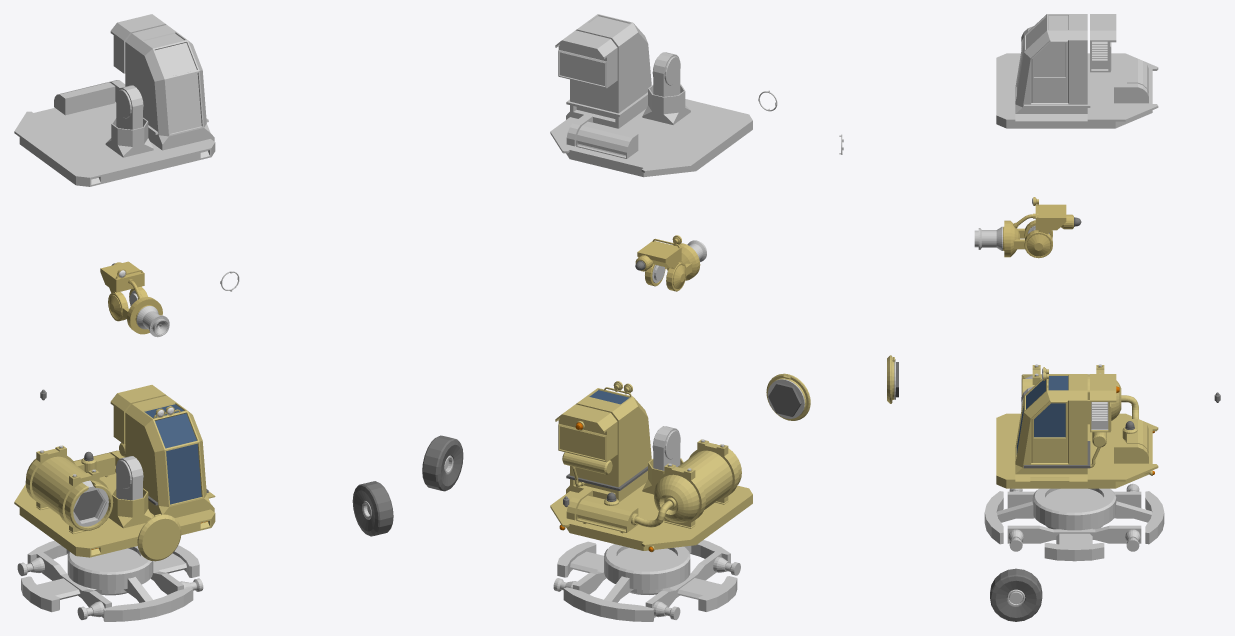
Rendered from Garret M-110.dae.
3 renders of one model, left to right at view 1: azimuth 30°, elevation 25°; view 2: azimuth 150°, elevation 25°; view 3: azimuth 270°, elevation 25°, orthographic. The views are drawn at different scales.
Parts seen in each view (by area): view 1: Garret_M-110Turret, Garret_M-110TurretCol2, Garret_M-110Hull, Garret_M-110TurretCol1, Garret_M-110Miner, Garret_M-110Wheel, Garret_M-110Hatch; view 2: Garret_M-110Turret, Garret_M-110TurretCol2, Garret_M-110Hull, Garret_M-110TurretCol1, Garret_M-110Miner, Garret_M-110Wheel, Garret_M-110Hatch; view 3: Garret_M-110Turret, Garret_M-110TurretCol2, Garret_M-110Hull, Garret_M-110TurretCol1, Garret_M-110Miner, Garret_M-110Wheel.
Part boxes in pixels (x1=…): Garret_M-110Turret: x1=14, y1=385, x2=215, y2=557; Garret_M-110TurretCol2: x1=54, y1=14, x2=214, y2=157; Garret_M-110Hull: x1=17, y1=540, x2=203, y2=621; Garret_M-110TurretCol1: x1=14, y1=102, x2=215, y2=186; Garret_M-110Miner: x1=100, y1=261, x2=169, y2=337; Garret_M-110Wheel: x1=352, y1=481, x2=393, y2=536; Garret_M-110Hatch: x1=137, y1=514, x2=181, y2=561; Garret_M-110Turret: x1=550, y1=381, x2=752, y2=552; Garret_M-110TurretCol2: x1=555, y1=14, x2=690, y2=158; Garret_M-110Hull: x1=553, y1=540, x2=740, y2=621; Garret_M-110TurretCol1: x1=550, y1=99, x2=752, y2=177; Garret_M-110Miner: x1=635, y1=235, x2=706, y2=291; Garret_M-110Wheel: x1=422, y1=435, x2=463, y2=491; Garret_M-110Hatch: x1=766, y1=373, x2=810, y2=420; Garret_M-110Turret: x1=996, y1=364, x2=1158, y2=488; Garret_M-110TurretCol2: x1=1015, y1=14, x2=1148, y2=125; Garret_M-110Hull: x1=984, y1=483, x2=1164, y2=561; Garret_M-110TurretCol1: x1=996, y1=53, x2=1158, y2=128; Garret_M-110Miner: x1=974, y1=197, x2=1081, y2=258; Garret_M-110Wheel: x1=990, y1=568, x2=1042, y2=621.
Size of the model in its own units: 9.98 by 10.56 by 16.02.
